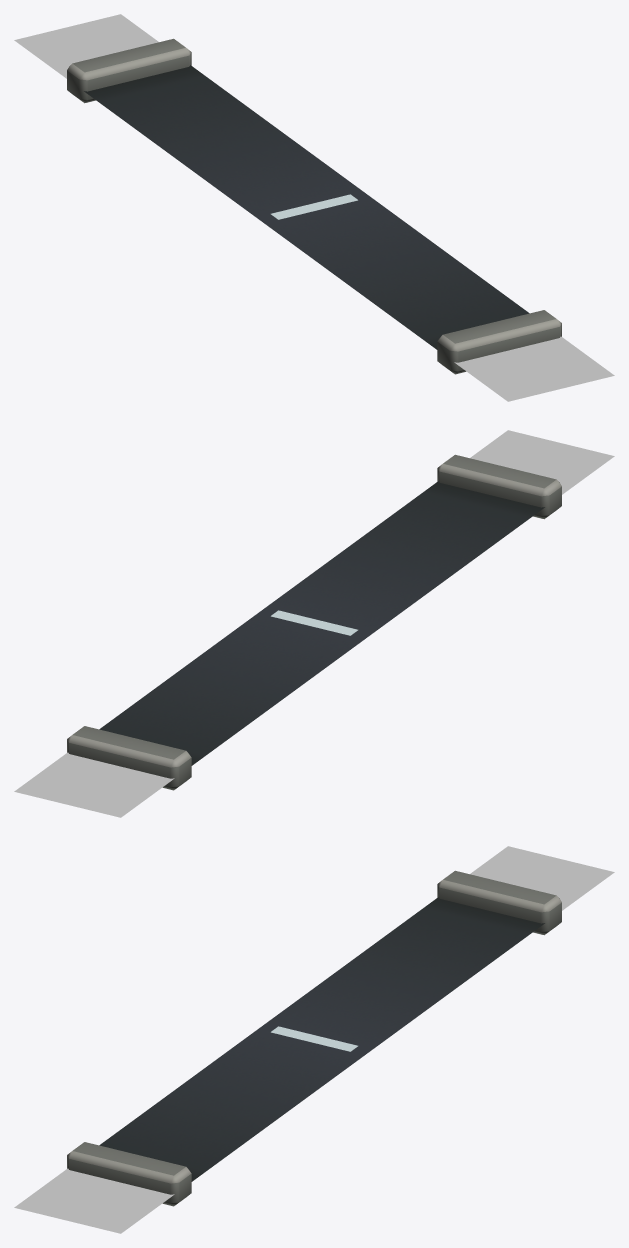
Rendered from road_section_x1.fbx.
3 views of the same model, one above another, from view 1: azimuth 30°, elevation 25°; view 2: azimuth 150°, elevation 25°; view 3: azimuth 330°, elevation 25° (orthographic).
Visible parts, largest first — view 1: road_section_x1, road_section_x1_sidewalk; view 2: road_section_x1, road_section_x1_sidewalk; view 3: road_section_x1, road_section_x1_sidewalk.
Part boxes in pixels (box(x1,y1,x2,y2)): road_section_x1: box(67, 38, 561, 374); road_section_x1_sidewalk: box(14, 14, 614, 401); road_section_x1: box(67, 454, 561, 790); road_section_x1_sidewalk: box(14, 430, 614, 817); road_section_x1: box(67, 870, 561, 1206); road_section_x1_sidewalk: box(14, 846, 614, 1233).
Bounding box in the file's own units: 210 × 55 × 1600.
